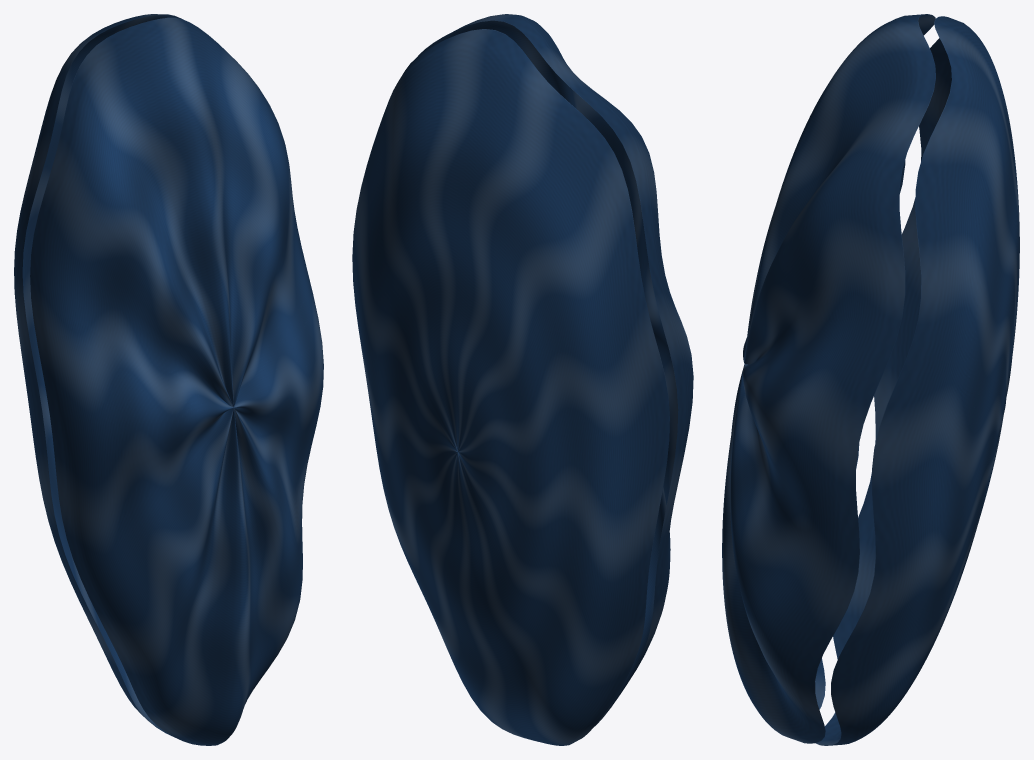
File: blue-mussel.glb
3 views of the same model, side by side, from view 1: azimuth 30°, elevation 25°; view 2: azimuth 150°, elevation 25°; view 3: azimuth 270°, elevation 25° (orthographic). The views are drawn at different scales.
Parts seen in each view (by area): view 1: blue-mussel.001; view 2: blue-mussel.001; view 3: blue-mussel.001.
Boxes of the visible parts, x1,y1,x2,y2 form: blue-mussel.001: (14,14,323,745); blue-mussel.001: (352,14,693,745); blue-mussel.001: (722,14,1019,745).
Bounding box in the file's own units: 0.9635 × 2.39 × 0.8953.
Materials: 2 (2 with a texture image).
